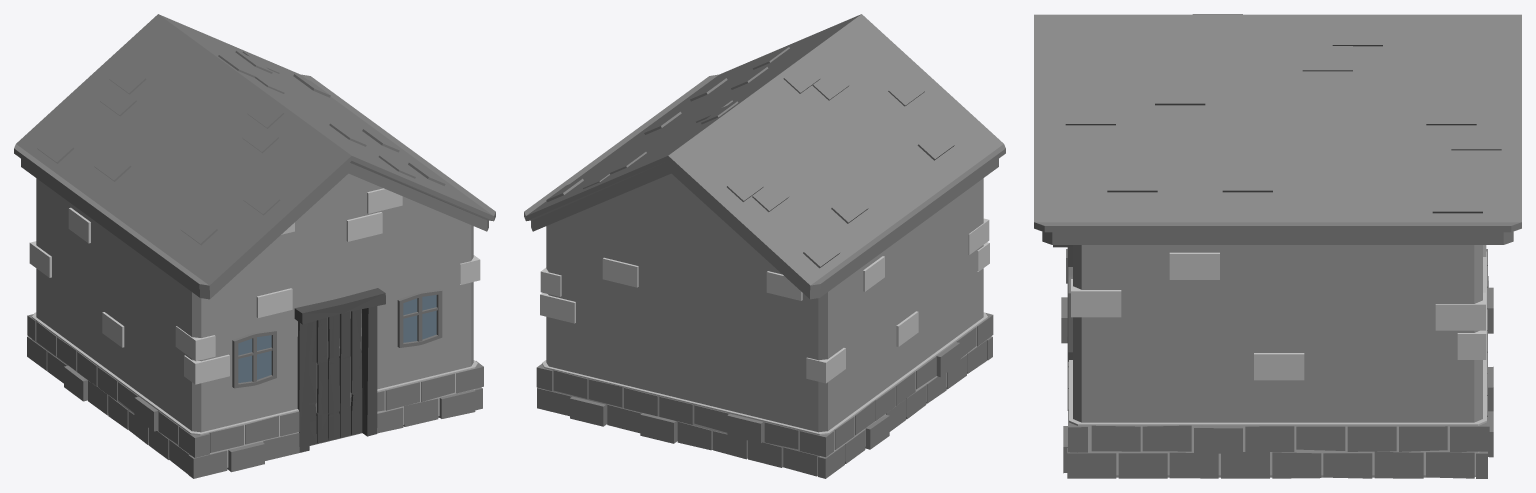
The model's file is qtb_1story_gableroof.fbx.
The picture shows the model from 3 angles, left to right: view 1: azimuth 30°, elevation 25°; view 2: azimuth 150°, elevation 25°; view 3: azimuth 270°, elevation 25°; orthographic projection. The views are drawn at different scales.
Parts seen in each view (by area): view 1: qtb_1story_gableroof_LOD0; view 2: qtb_1story_gableroof_LOD0; view 3: qtb_1story_gableroof_LOD0.
Part boxes in pixels (box(x1,y1,x2,y2)): qtb_1story_gableroof_LOD0: box(14, 14, 495, 478); qtb_1story_gableroof_LOD0: box(524, 14, 1005, 478); qtb_1story_gableroof_LOD0: box(1034, 14, 1521, 478).
Size of what is drawn, in the model's own units: 5.68 by 5.47 by 6.43.
Materials: 1 (1 with a texture image).
